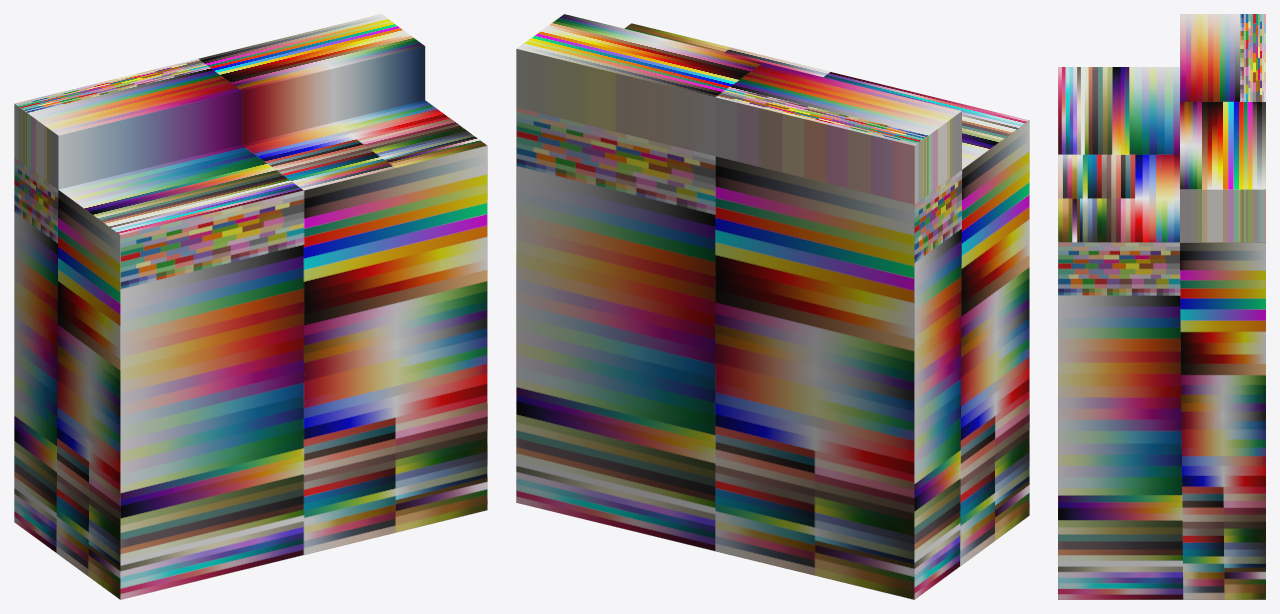
File: CR_caf_Cutlerybox_001_Collider.FBX
The picture shows the model from 3 angles, left to right: view 1: azimuth 30°, elevation 25°; view 2: azimuth 150°, elevation 25°; view 3: azimuth 270°, elevation 25°; orthographic projection. The views are drawn at different scales.
Visible parts, largest first — view 1: CR_caf_Cutlerybox_001_Collider; view 2: CR_caf_Cutlerybox_001_Collider; view 3: CR_caf_Cutlerybox_001_Collider.
Boxes of the visible parts, x1,y1,x2,y2 form: CR_caf_Cutlerybox_001_Collider: (14,14,487,599); CR_caf_Cutlerybox_001_Collider: (516,14,1029,599); CR_caf_Cutlerybox_001_Collider: (1058,14,1265,599).
Size of the model in its own units: 60.82 by 66.29 by 30.42.
